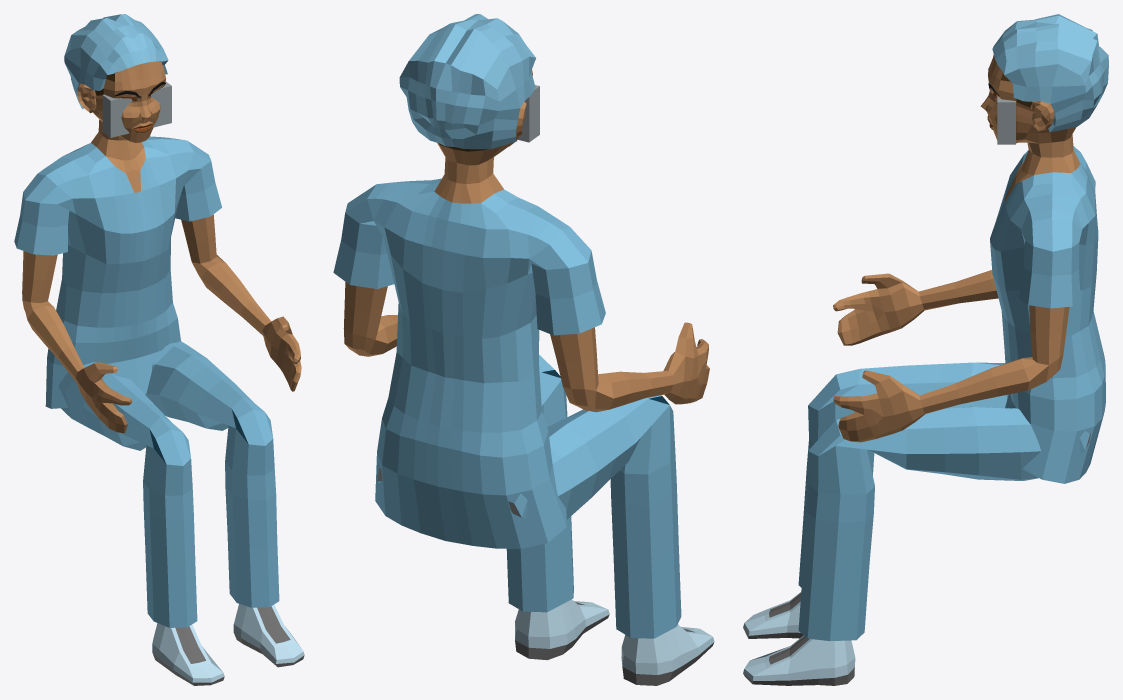
The model's file is Doctor_Sit_Mask.fbx.
3 views of the same model, side by side, from view 1: azimuth 30°, elevation 25°; view 2: azimuth 150°, elevation 25°; view 3: azimuth 270°, elevation 25° (orthographic). The views are drawn at different scales.
Parts seen in each view (by area): view 1: Doctor_Sit_Mask; view 2: Doctor_Sit_Mask; view 3: Doctor_Sit_Mask.
Boxes of the visible parts, left/top/right/bottom form: Doctor_Sit_Mask: left=14, top=14, right=304, bottom=685; Doctor_Sit_Mask: left=333, top=14, right=714, bottom=685; Doctor_Sit_Mask: left=743, top=14, right=1108, bottom=685.
Size of the model in its own units: 0.3141 by 0.8269 by 0.432.
